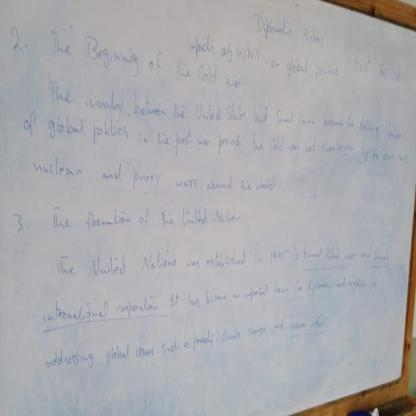Handwritten text: (15, 103, 415, 189), (35, 298, 331, 386), (35, 262, 383, 336), (43, 76, 408, 145), (36, 21, 254, 121), (49, 230, 398, 289), (23, 151, 285, 212), (179, 26, 351, 94), (45, 190, 247, 237), (352, 35, 411, 89), (250, 9, 323, 45)
